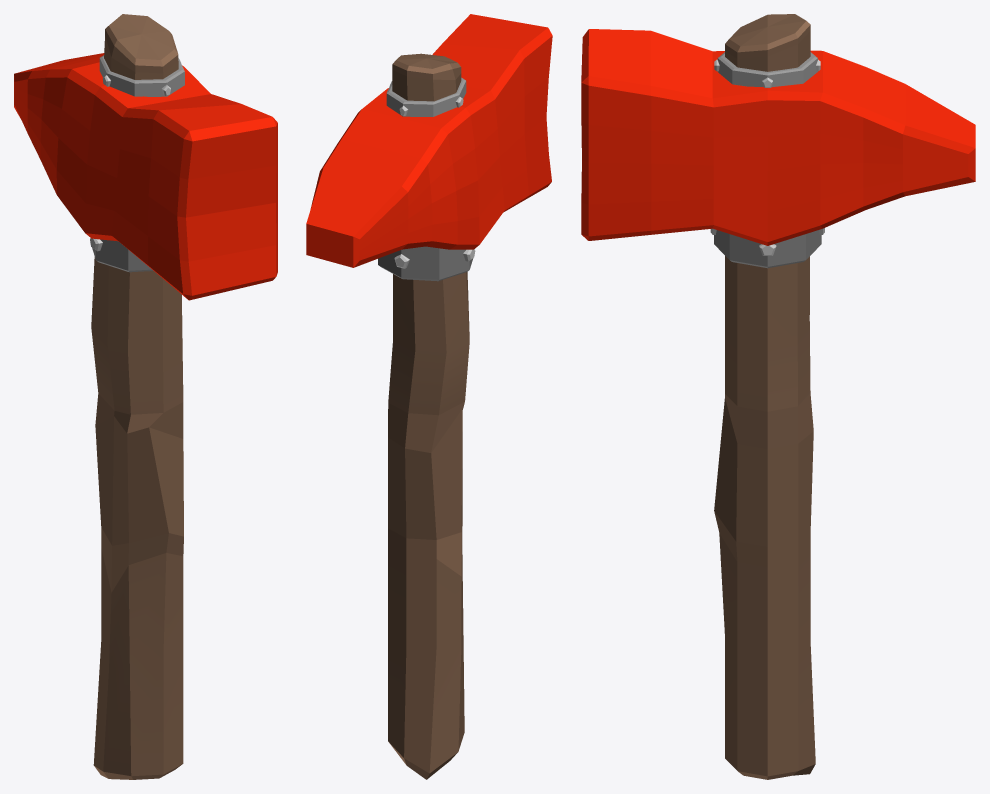
Rendered from Hammer2_Red.fbx.
3 renders of one model, left to right at view 1: azimuth 30°, elevation 25°; view 2: azimuth 150°, elevation 25°; view 3: azimuth 270°, elevation 25°, orthographic. The views are drawn at different scales.
Visible parts, largest first — view 1: Hammer2_Red; view 2: Hammer2_Red; view 3: Hammer2_Red.
Boxes of the visible parts, left/top/right/bottom form: Hammer2_Red: left=14, top=14, right=277, bottom=779; Hammer2_Red: left=306, top=14, right=552, bottom=779; Hammer2_Red: left=581, top=14, right=975, bottom=779.
Size of the model in its own units: 10.39 by 64.49 by 30.19.
